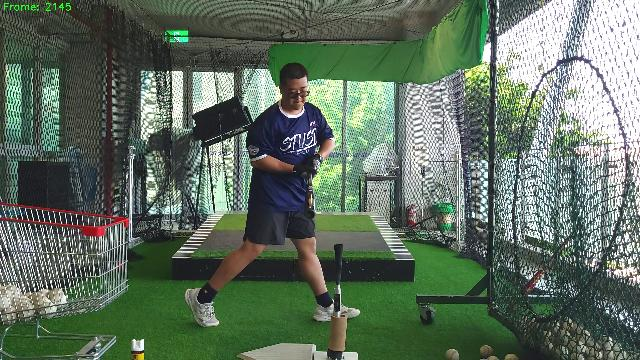baseball bat: (303, 173, 315, 218)
